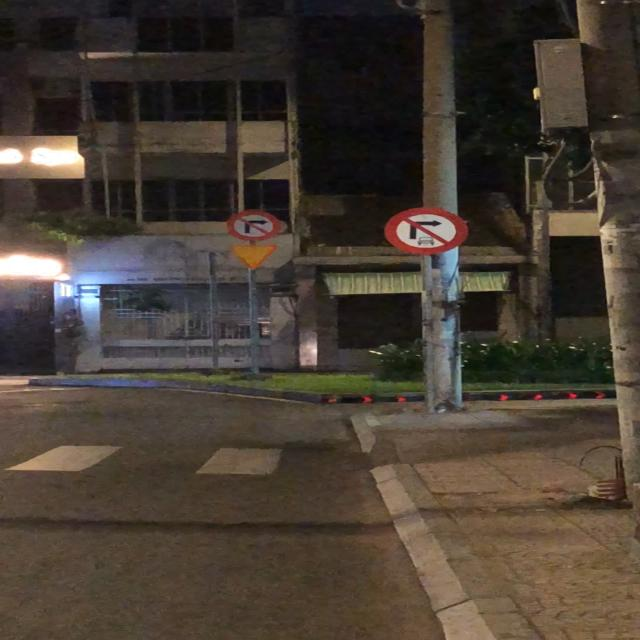Bien bao cam re phai: (226, 209, 285, 242)
Bien bao cam xe o to re phai: (382, 206, 472, 256)
Bien bao giao nhau voi duong uu tien: (226, 243, 285, 272)
